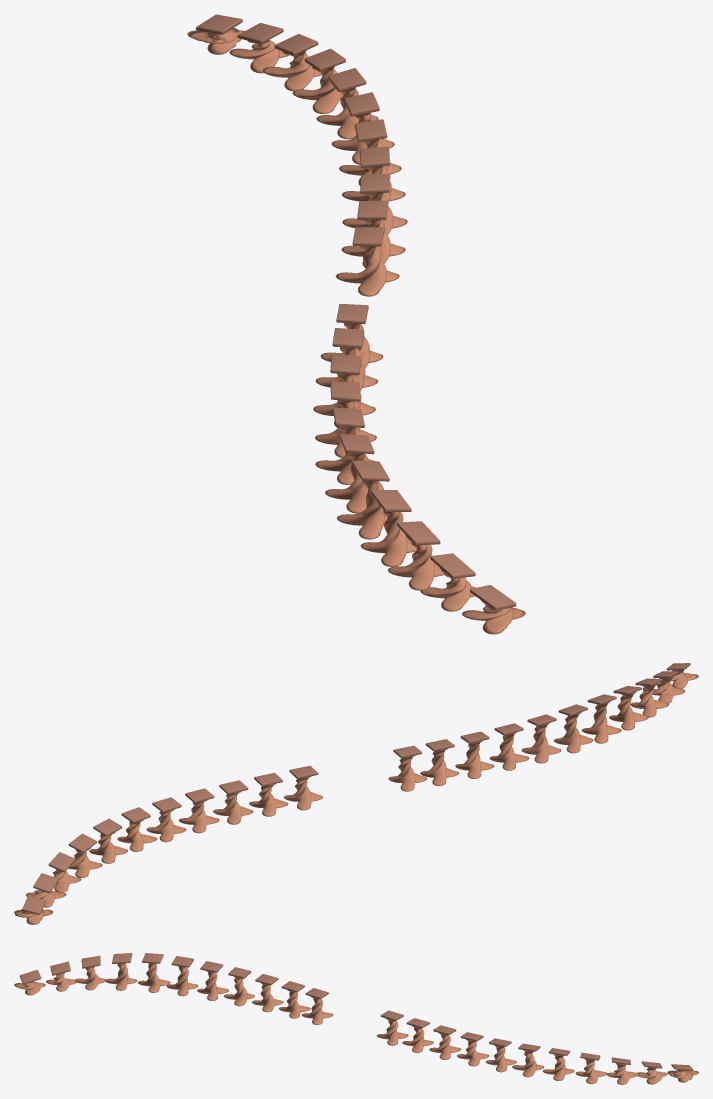
Rendered from sc02_supports_vine_fixture.glb.
The picture shows the model from 3 angles, top to bottom: view 1: azimuth 30°, elevation 25°; view 2: azimuth 150°, elevation 25°; view 3: azimuth 270°, elevation 25°; orthographic projection. The views are drawn at different scales.
Parts seen in each view (by area): view 1: SC02_VINE_10_shaft, SC02_VINE_18_shaft, SC02_VINE_19_shaft, SC02_VINE_17_shaft, SC02_VINE_02_shaft, SC02_VINE_20_shaft, SC02_VINE_03_shaft, SC02_VINE_16_shaft, SC02_VINE_21_shaft, SC02_VINE_01_shaft; view 2: SC02_VINE_17_shaft, SC02_VINE_16_shaft, SC02_VINE_15_shaft, SC02_VINE_18_shaft, SC02_VINE_14_shaft, SC02_VINE_13_shaft, SC02_VINE_12_shaft, SC02_VINE_11_shaft, SC02_VINE_07_shaft, SC02_VINE_10_shaft, SC02_VINE_08_shaft, SC02_VINE_19_shaft (+6 smaller); view 3: SC02_VINE_17_shaft, SC02_VINE_15_shaft, SC02_VINE_16_shaft, SC02_VINE_13_shaft, SC02_VINE_14_shaft, SC02_VINE_12_shaft, SC02_VINE_18_shaft, SC02_VINE_11_shaft, SC02_VINE_05_shaft, SC02_VINE_07_shaft, SC02_VINE_04_shaft, SC02_VINE_06_shaft (+10 smaller).
Part boxes in pixels (x1,y1,x2,y2): SC02_VINE_10_shaft: (335,246,399,296); SC02_VINE_18_shaft: (360,502,416,566); SC02_VINE_19_shaft: (387,534,444,590); SC02_VINE_17_shaft: (336,473,387,539); SC02_VINE_02_shaft: (262,50,322,91); SC02_VINE_20_shaft: (420,567,475,611); SC02_VINE_03_shaft: (292,66,343,114); SC02_VINE_16_shaft: (325,452,384,513); SC02_VINE_21_shaft: (462,600,525,634); SC02_VINE_01_shaft: (229,40,289,73); SC02_VINE_17_shaft: (581,701,621,743); SC02_VINE_16_shaft: (553,712,593,753); SC02_VINE_15_shaft: (521,723,561,763); SC02_VINE_18_shaft: (609,692,648,730); SC02_VINE_14_shaft: (489,732,529,770); SC02_VINE_13_shaft: (455,740,494,778); SC02_VINE_12_shaft: (420,748,458,786); SC02_VINE_11_shaft: (388,755,427,791); SC02_VINE_07_shaft: (178,800,219,833); SC02_VINE_10_shaft: (284,776,322,810); SC02_VINE_08_shaft: (213,791,253,824); SC02_VINE_19_shaft: (630,683,669,717); SC02_VINE_17_shaft: (137,963,170,992); SC02_VINE_15_shaft: (197,970,228,1000); SC02_VINE_16_shaft: (166,966,198,996); SC02_VINE_13_shaft: (252,983,283,1012); SC02_VINE_14_shaft: (224,976,254,1006); SC02_VINE_12_shaft: (279,990,310,1018); SC02_VINE_18_shaft: (105,963,137,990); SC02_VINE_11_shaft: (302,996,333,1024); SC02_VINE_05_shaft: (512,1050,544,1077); SC02_VINE_07_shaft: (457,1039,488,1066); SC02_VINE_04_shaft: (543,1054,574,1080); SC02_VINE_06_shaft: (486,1045,516,1072).
Bounding box in the file's own units: 101 × 13.38 × 262.
